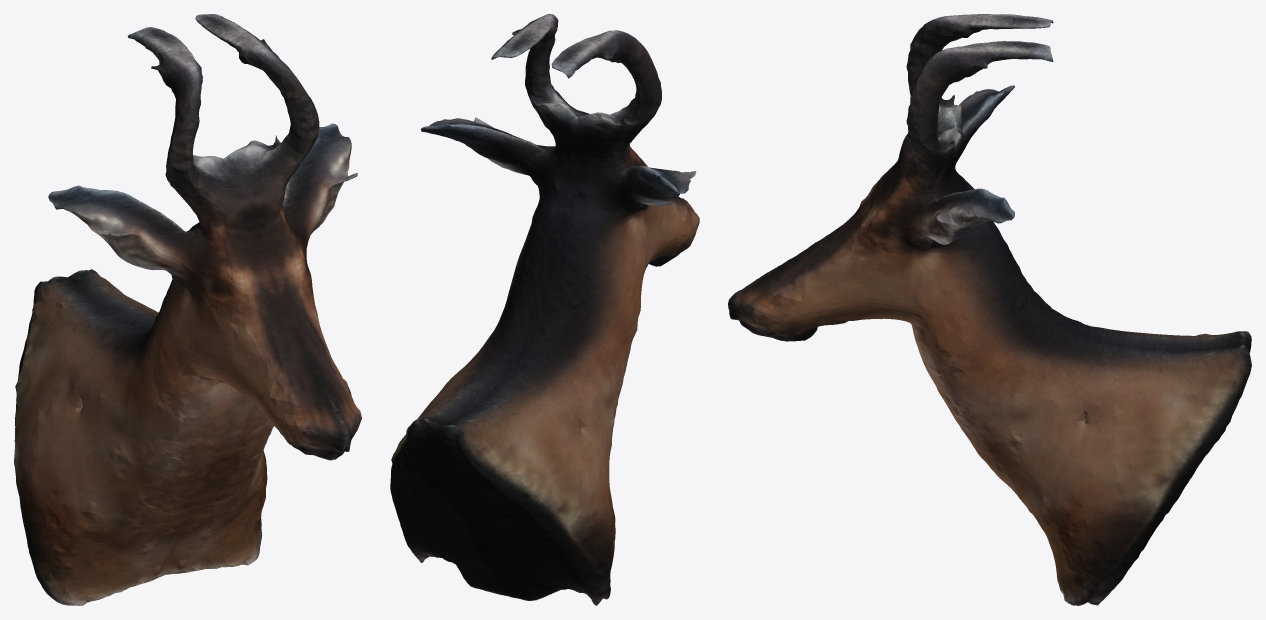
3 renders of one model, left to right at view 1: azimuth 30°, elevation 25°; view 2: azimuth 150°, elevation 25°; view 3: azimuth 270°, elevation 25°, orthographic. The views are drawn at different scales.
Visible parts, largest first — view 1: Mesh_0.001; view 2: Mesh_0.001; view 3: Mesh_0.001.
Boxes of the visible parts, x1,y1,x2,y2 form: Mesh_0.001: (14, 14, 361, 605); Mesh_0.001: (390, 14, 699, 605); Mesh_0.001: (728, 14, 1251, 605).
Size of the model in its own units: 0.4182 by 0.7914 by 0.7037.
Materials: 1 (1 with a texture image).
